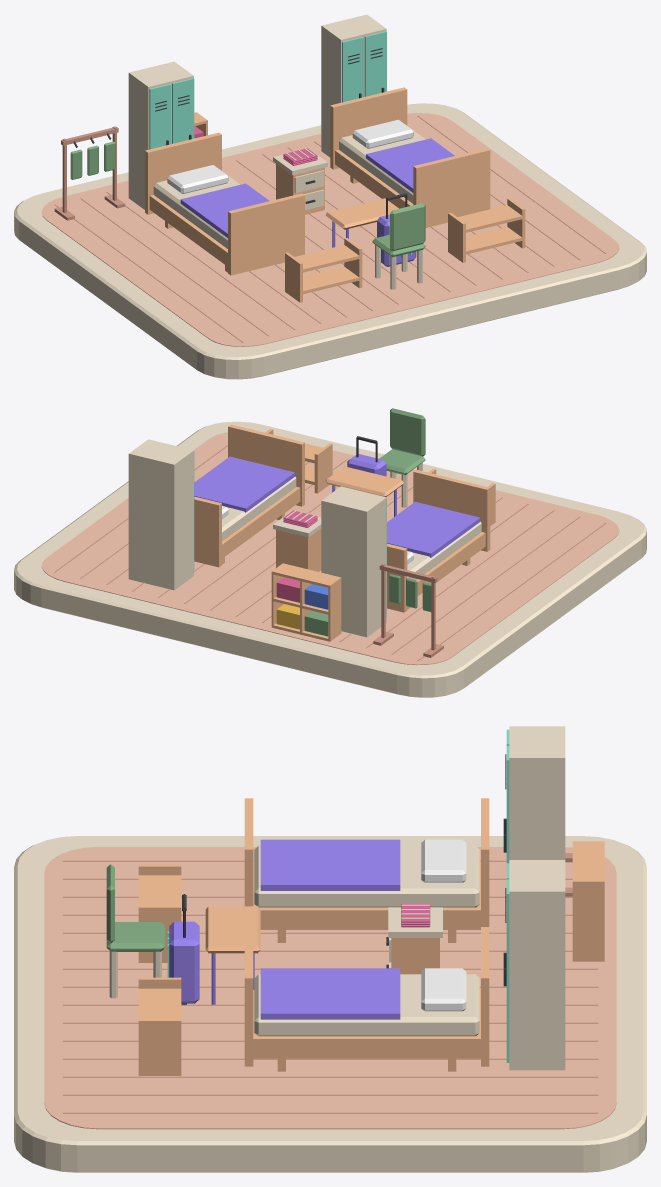
Rendered from room.fbx.
The picture shows the model from 3 angles, top to bottom: view 1: azimuth 30°, elevation 25°; view 2: azimuth 150°, elevation 25°; view 3: azimuth 270°, elevation 25°; orthographic projection. The views are drawn at different scales.
Parts seen in each view (by area): view 1: COM-02 Floor Surface, COM-01 Rounded Base Direct, End board, End board.002, Case, Case.001, End board.003, End board.001, Blanket.001, Blanket, Backrest, Mattress (+19 smaller); view 2: COM-02 Floor Surface, COM-01 Rounded Base Direct, Case.001, Case, Blanket.001, Blanket, End board, End board.002, End board.003, Body, Backrest, Frame.001 (+15 smaller); view 3: COM-02 Floor Surface, COM-01 Rounded Base Direct, Case.001, Case, Blanket.001, Blanket, Mattress.001, Mattress, Frame.001, Frame, Cubbies divider.002, Side.003 (+21 smaller).
Boxes of the visible parts, bbox=[...] form: COM-02 Floor Surface: bbox=[41, 113, 619, 346]; COM-01 Rounded Base Direct: bbox=[14, 103, 646, 379]; End board: bbox=[228, 193, 304, 275]; End board.002: bbox=[413, 148, 490, 227]; Case: bbox=[128, 61, 193, 209]; Case.001: bbox=[321, 14, 386, 157]; End board.003: bbox=[330, 87, 407, 169]; End board.001: bbox=[145, 132, 221, 214]; Blanket.001: bbox=[366, 138, 454, 192]; Blanket: bbox=[180, 183, 269, 237]; Backrest: bbox=[390, 203, 425, 251]; Mattress: bbox=[153, 170, 239, 248]; COM-02 Floor Surface: bbox=[41, 432, 619, 665]; COM-01 Rounded Base Direct: bbox=[14, 421, 646, 697]; Case.001: bbox=[128, 439, 193, 590]; Case: bbox=[321, 486, 386, 637]; Blanket.001: bbox=[194, 456, 294, 512]; Blanket: bbox=[387, 501, 480, 557]; End board: bbox=[413, 469, 490, 551]; End board.002: bbox=[228, 424, 304, 506]; End board.003: bbox=[194, 496, 221, 567]; Body: bbox=[276, 529, 321, 571]; Backrest: bbox=[390, 408, 425, 456]; Frame.001: bbox=[222, 487, 300, 558]; COM-02 Floor Surface: bbox=[44, 847, 616, 1129]; COM-01 Rounded Base Direct: bbox=[14, 836, 646, 1172]; Case.001: bbox=[509, 860, 565, 1070]; Case: bbox=[509, 726, 565, 859]; Blanket.001: bbox=[260, 968, 400, 1019]; Blanket: bbox=[260, 839, 400, 890]; Mattress.001: bbox=[254, 974, 479, 1036]; Mattress: bbox=[254, 845, 479, 907]; Frame.001: bbox=[253, 990, 480, 1058]; Frame: bbox=[253, 861, 480, 929]; Cubbies divider.002: bbox=[572, 882, 604, 961]; Side.003: bbox=[138, 1019, 181, 1075].
Size of the model in its own units: 600 by 192 by 520.
